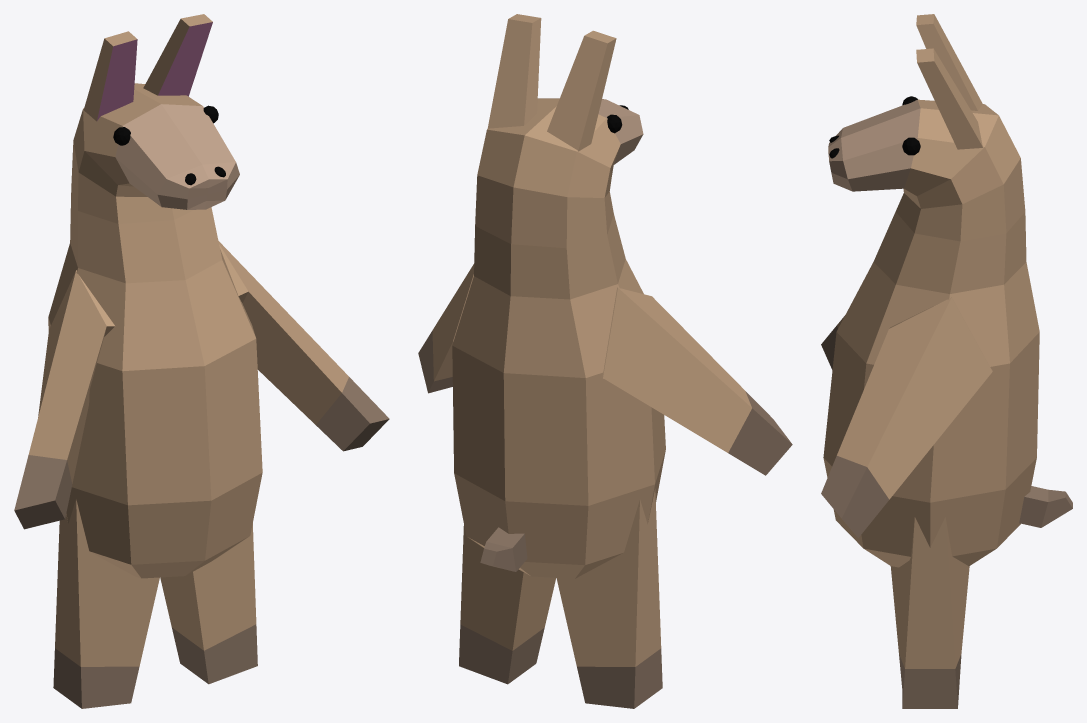
The model's file is polyLlama_variant2.fbx.
The picture shows the model from 3 angles, left to right: view 1: azimuth 30°, elevation 25°; view 2: azimuth 150°, elevation 25°; view 3: azimuth 270°, elevation 25°; orthographic projection. The views are drawn at different scales.
Parts seen in each view (by area): view 1: Circle; view 2: Circle; view 3: Circle.
Boxes of the visible parts, x1=… form: Circle: x1=14, y1=14, x2=389, y2=708; Circle: x1=418, y1=14, x2=792, y2=708; Circle: x1=821, y1=14, x2=1072, y2=708.
Size of the model in its own units: 446 by 746 by 267.
